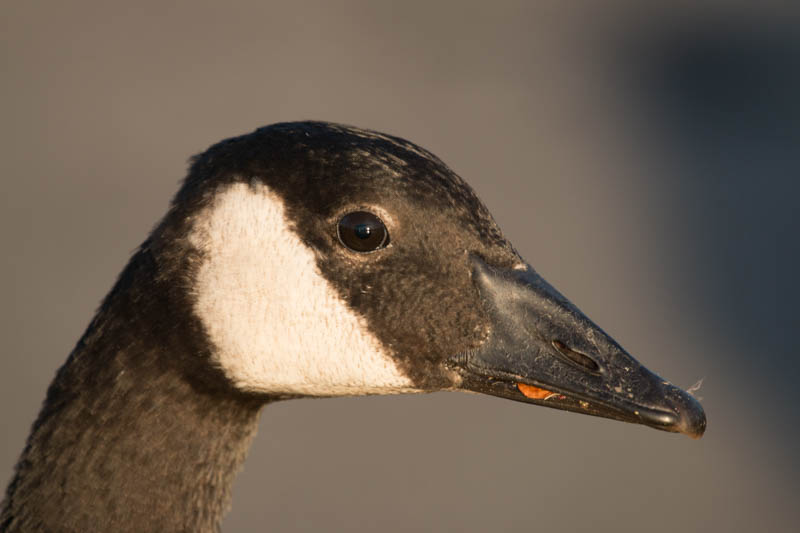goose-head: (141, 120, 707, 438)
